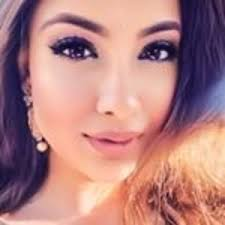asian_female: (34, 1, 184, 204)
